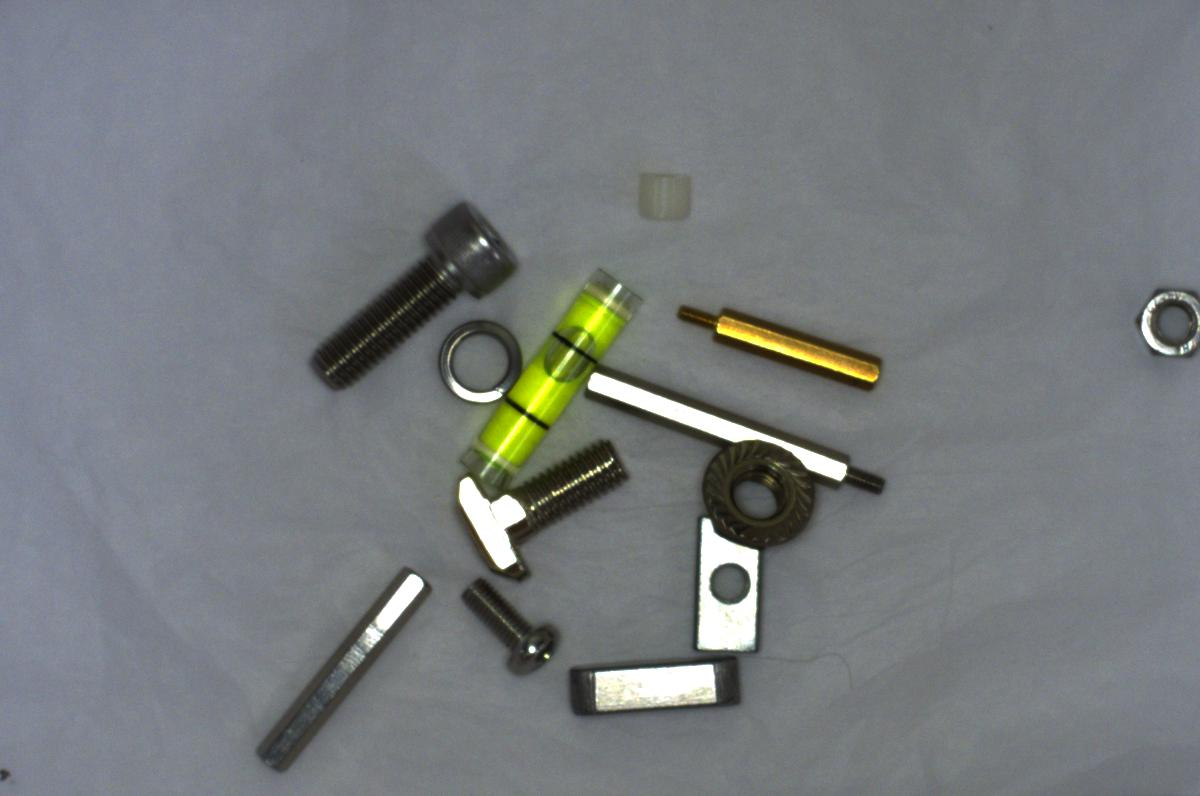Double hexagonal column: (248, 555, 434, 774)
Flange nut: (694, 433, 829, 553)
Hexagon nut: (1128, 274, 1199, 369)
Hexagon pillar: (658, 290, 887, 399)
Hexagon screw: (300, 186, 524, 391)
Hexagonal steel column: (587, 364, 883, 498)
Horizontal bubble: (448, 269, 653, 498)
Keybar: (548, 641, 753, 732)
Plastic cushion pillar: (625, 158, 697, 230)
Rectangular nut: (685, 508, 774, 660)
Round head screw: (462, 571, 555, 677)
Spring washer: (432, 317, 520, 406)
T-shaped screw: (435, 439, 637, 578)
